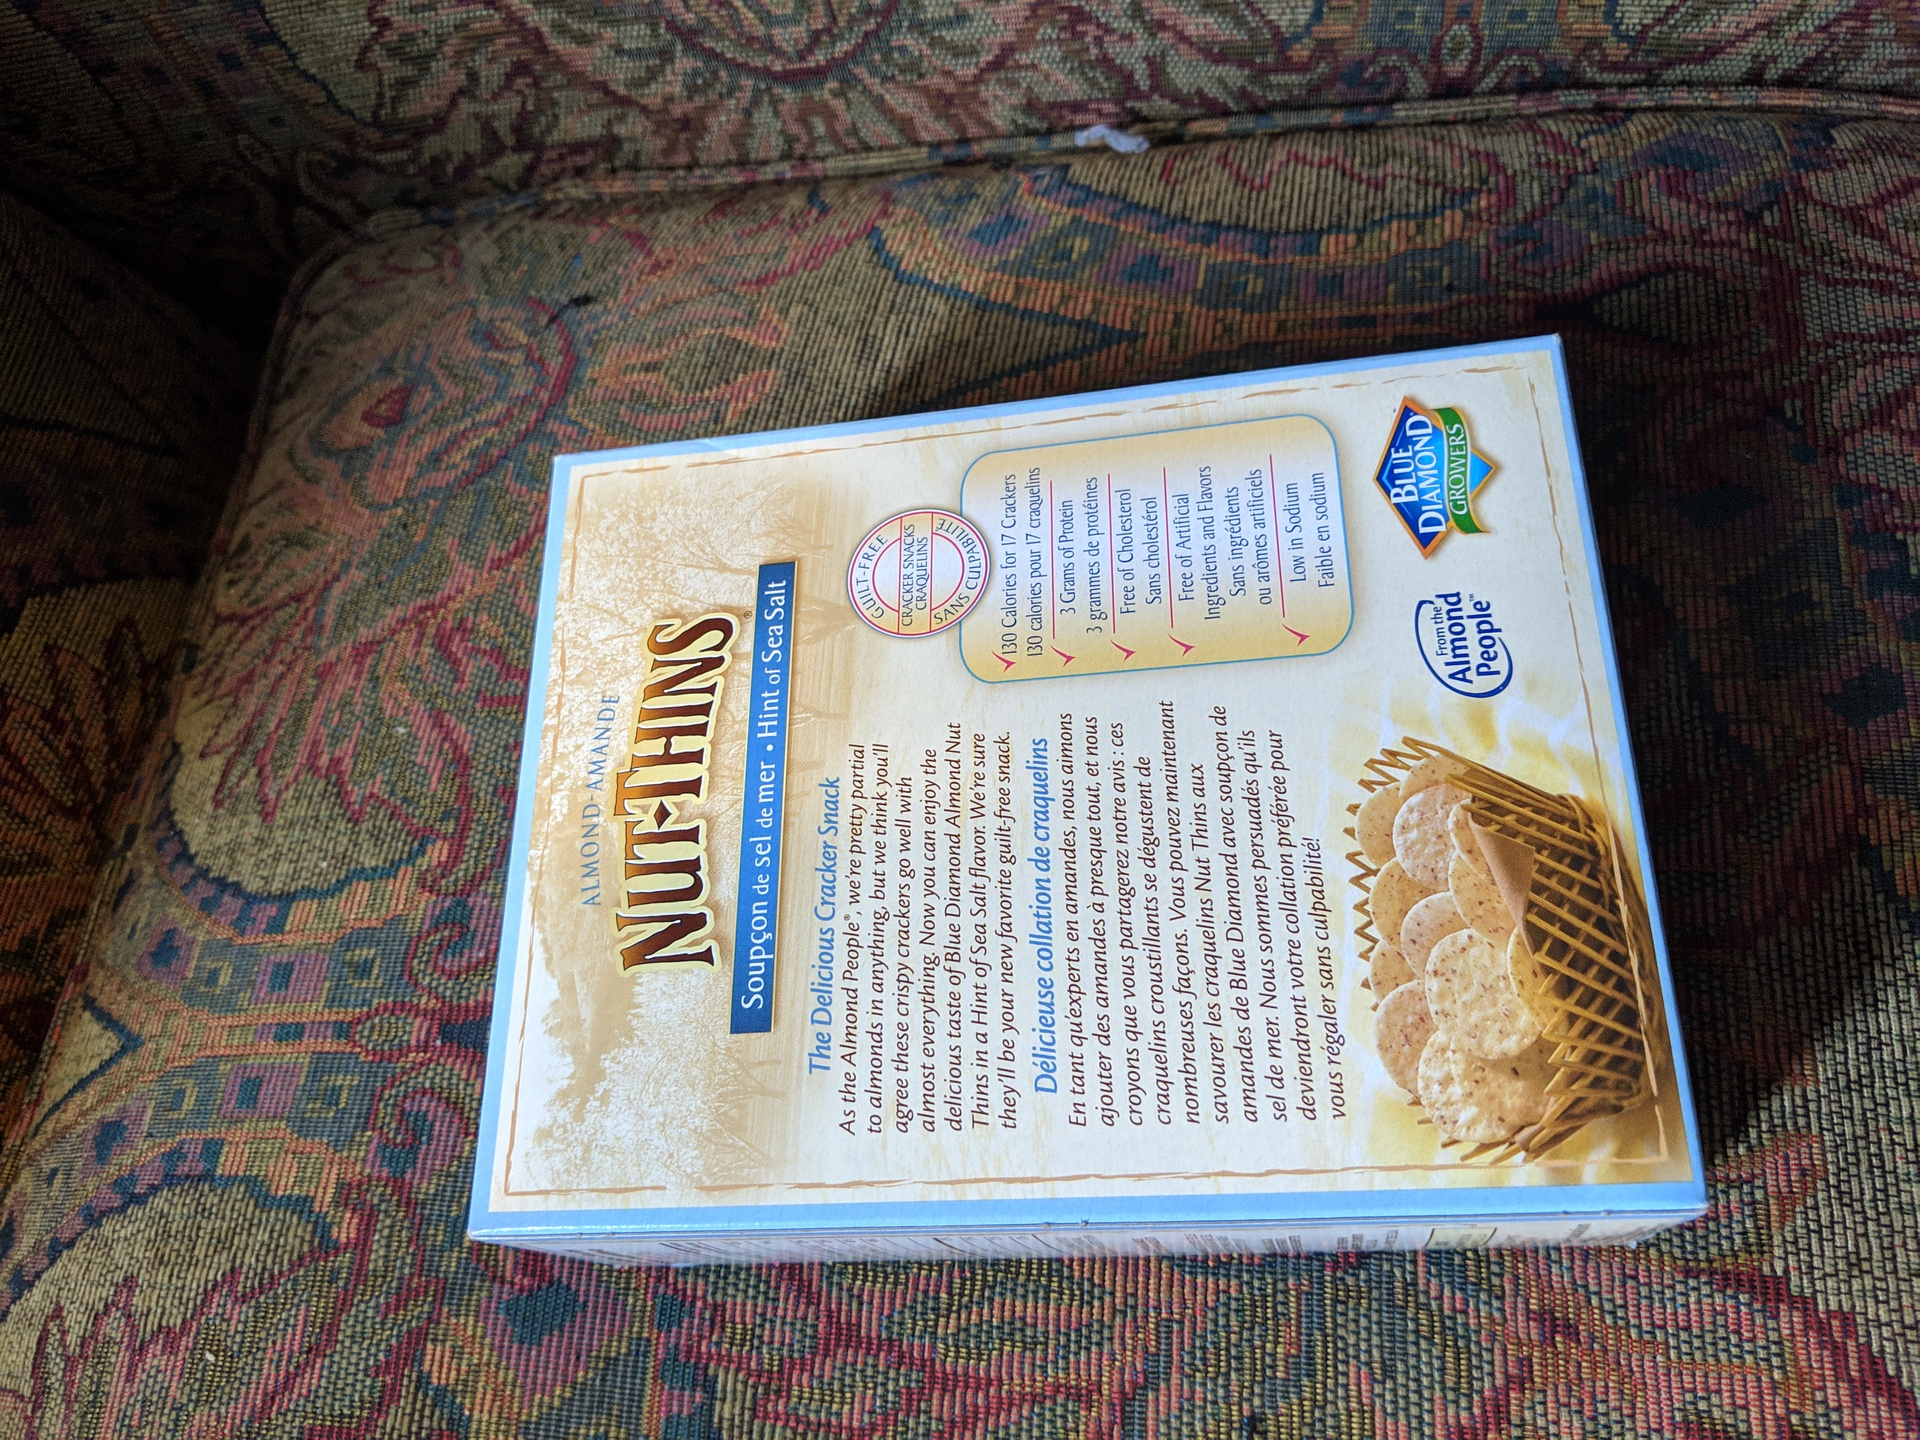blue_diamond_nut_thins_almond_seasalt: (543, 445, 1710, 1252)
